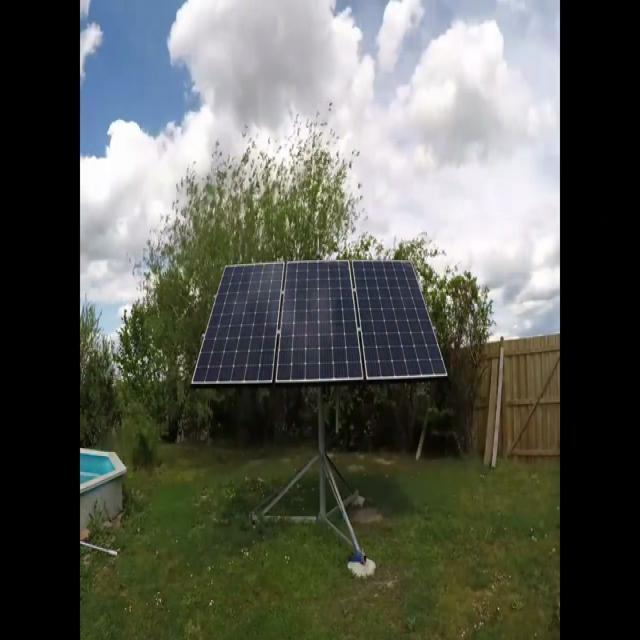Normal Solar Panel: (354, 261, 448, 380), (193, 265, 285, 385), (277, 261, 364, 383)
